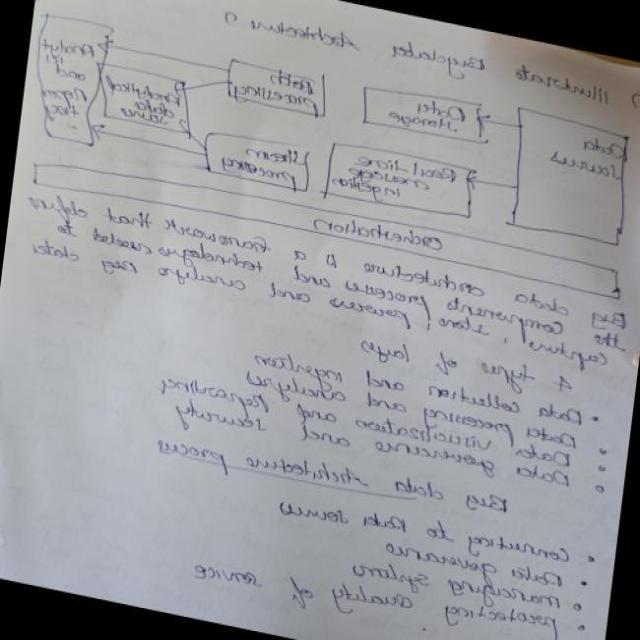Figure Detection - v3 Dataset Version2: (13, 0, 640, 312)
